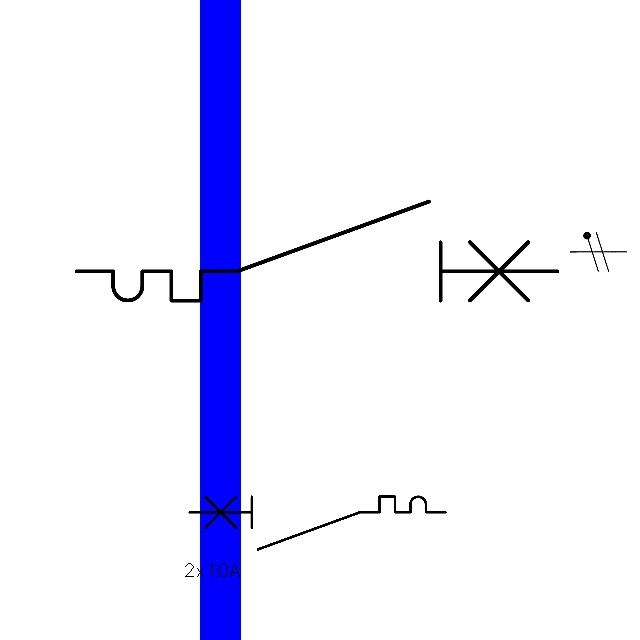interruptor_termomagnetico: (64, 189, 570, 313), (183, 490, 452, 556)
